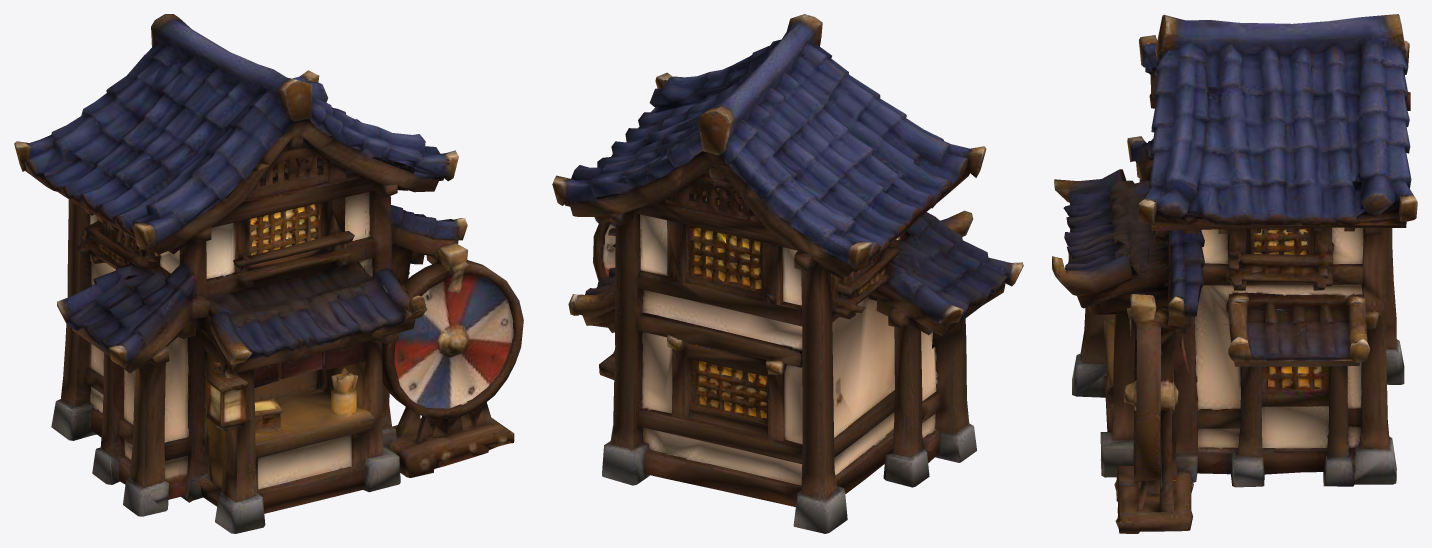
3 renders of one model, left to right at view 1: azimuth 30°, elevation 25°; view 2: azimuth 150°, elevation 25°; view 3: azimuth 270°, elevation 25°, orthographic. The views are drawn at different scales.
Parts seen in each view (by area): view 1: compact__chance_wheel__neural_lod, compact__chance_wheel__neural_wheel; view 2: compact__chance_wheel__neural_lod; view 3: compact__chance_wheel__neural_lod.
Part boxes in pixels (x1,y1,x2,y2): compact__chance_wheel__neural_lod: [14, 14, 523, 533]; compact__chance_wheel__neural_wheel: [394, 273, 517, 405]; compact__chance_wheel__neural_lod: [552, 14, 1023, 533]; compact__chance_wheel__neural_lod: [1052, 14, 1417, 533].
Bounding box in the file's own units: 1 × 0.9328 × 0.7269.
1 material, 1 textured.
